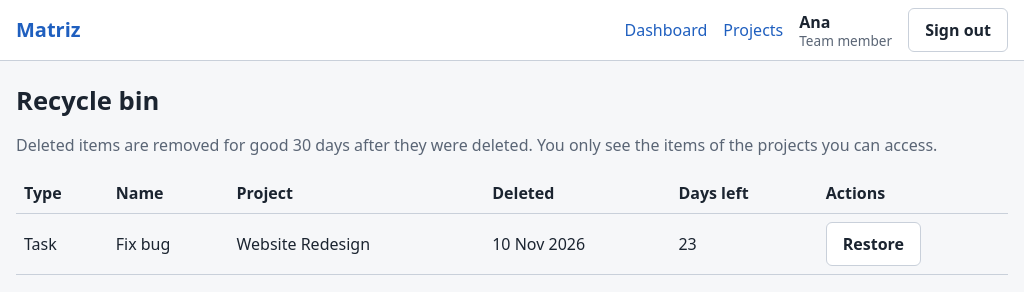
the recycle bin (F09, R9, R20) › restores a task, and the list is read again without the item
The width and height of the screenshot is (1024, 292).
expect the heading "Recycle bin" is shown: met, box [16,83,159,118]
Click the button named "Restore Fix bug". click: point(873, 244)
box: [826,222,921,266]
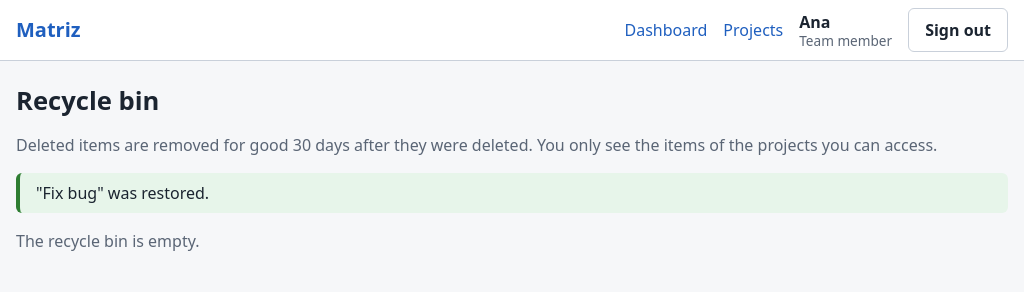
expect the text "\"Fix bug\" was restored." is shown: met, box [16,173,1008,213]
expect the text "The recycle bin is empty." is shown: met, box [16,230,200,252]
